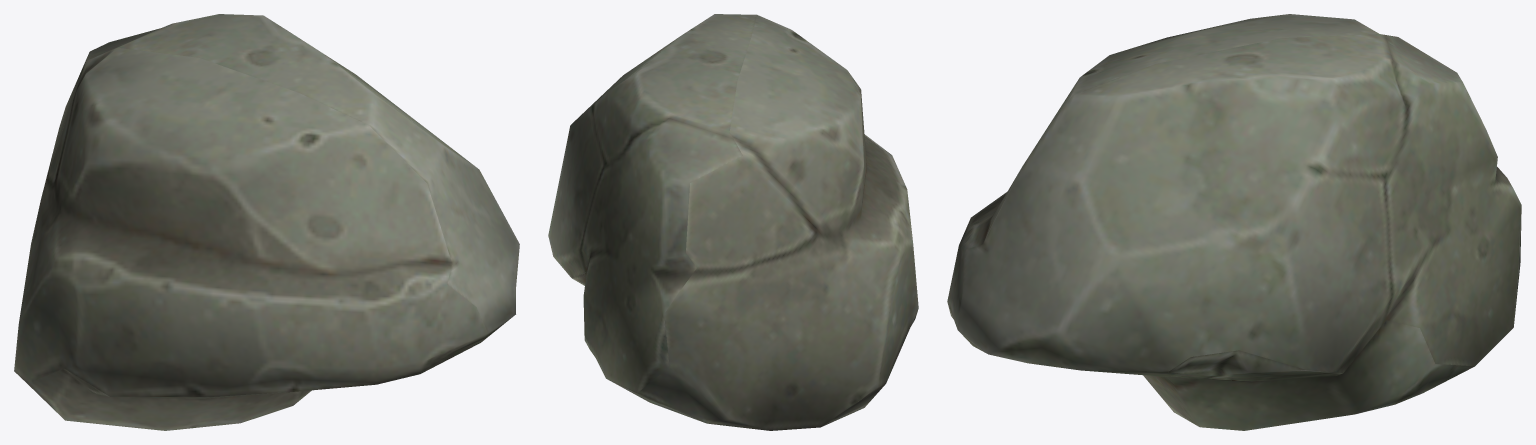
File: Lty_st_03.FBX
3 renders of one model, left to right at view 1: azimuth 30°, elevation 25°; view 2: azimuth 150°, elevation 25°; view 3: azimuth 270°, elevation 25°, orthographic. The views are drawn at different scales.
Parts seen in each view (by area): view 1: Mesh 1; view 2: Mesh 1; view 3: Mesh 1.
Boxes of the visible parts, x1=… form: Mesh 1: x1=14, y1=14, x2=519, y2=430; Mesh 1: x1=548, y1=14, x2=918, y2=430; Mesh 1: x1=947, y1=14, x2=1521, y2=430.
Bounding box in the file's own units: 104 × 87.82 × 123.
